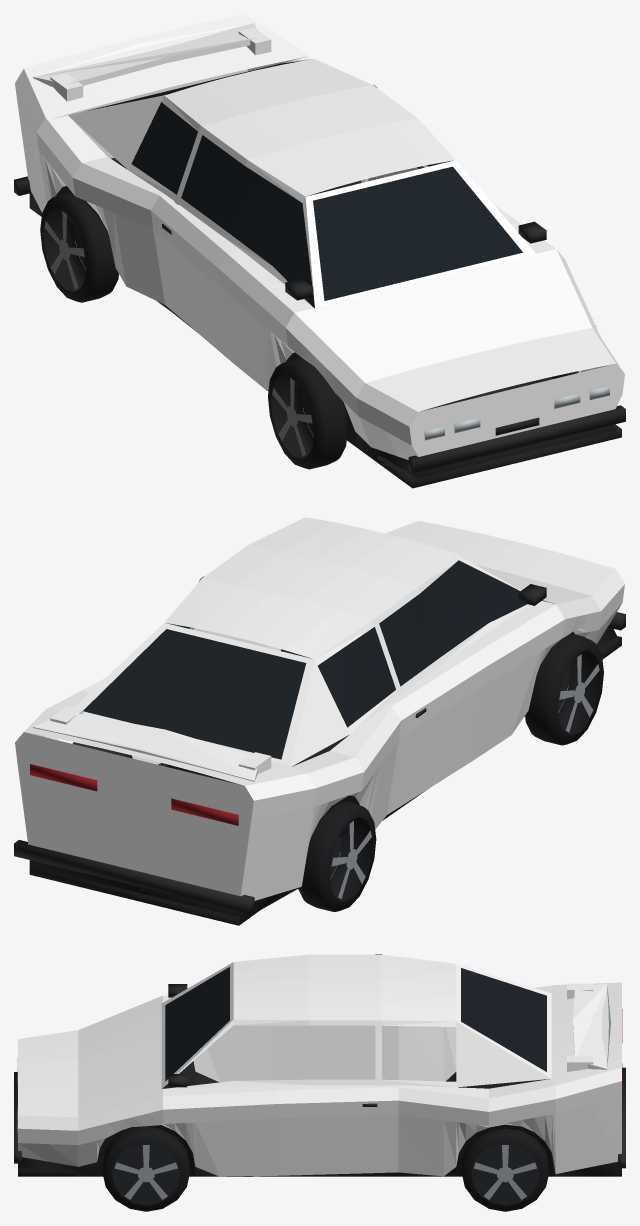
The model's file is ipora_farol.glb.
3 renders of one model, top to bottom at view 1: azimuth 30°, elevation 25°; view 2: azimuth 150°, elevation 25°; view 3: azimuth 270°, elevation 25°, orthographic. The views are drawn at different scales.
Parts seen in each view (by area): view 1: Body_Paint, Body_Details, Mount_FrontLeft_Wheel_Details, Mount_RearLeft_Wheel_Details; view 2: Body_Paint, Body_Details, Mount_FrontLeft_Wheel_Details, Mount_RearLeft_Wheel_Details; view 3: Body_Paint, Body_Details, Mount_FrontRight_Wheel_Details, Mount_RearRight_Wheel_Details.
Part boxes in pixels (x1,y1,x2,y2): Body_Paint: (15,14,624,459); Body_Details: (14,61,625,488); Mount_FrontLeft_Wheel_Details: (268,357,347,469); Mount_RearLeft_Wheel_Details: (40,191,118,302); Body_Paint: (15,517,624,900); Body_Details: (14,560,625,925); Mount_FrontLeft_Wheel_Details: (525,633,603,745); Mount_RearLeft_Wheel_Details: (298,801,376,911); Body_Paint: (18,954,621,1176); Body_Details: (14,967,625,1176); Mount_FrontRight_Wheel_Details: (102,1126,190,1211); Mount_RearRight_Wheel_Details: (461,1128,549,1211).
Bounding box in the file's own units: 1.81 × 1.31 × 4.18.
2 materials, 1 textured.
